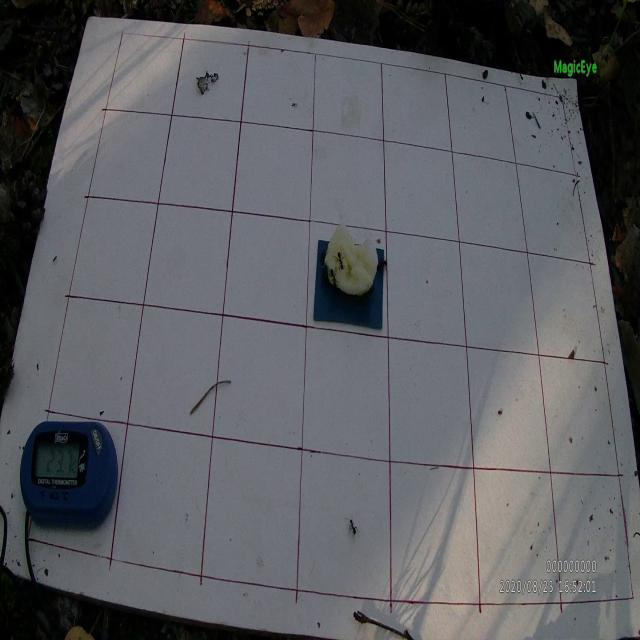Ant: (345, 514, 361, 544), (333, 249, 346, 270), (328, 268, 339, 290), (377, 256, 387, 274)
